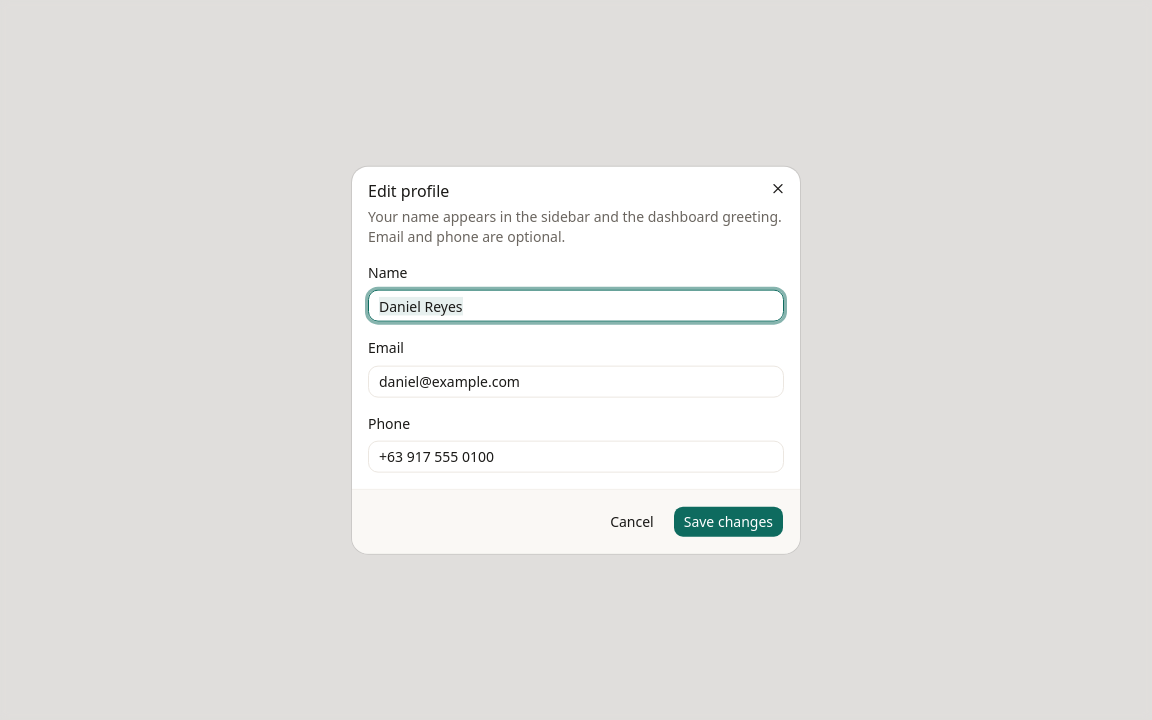
it: OwnerFormDialog › refuses a blank name without calling the write path
Clear the field labelled "Name": (576, 306) [368,290,784,322]
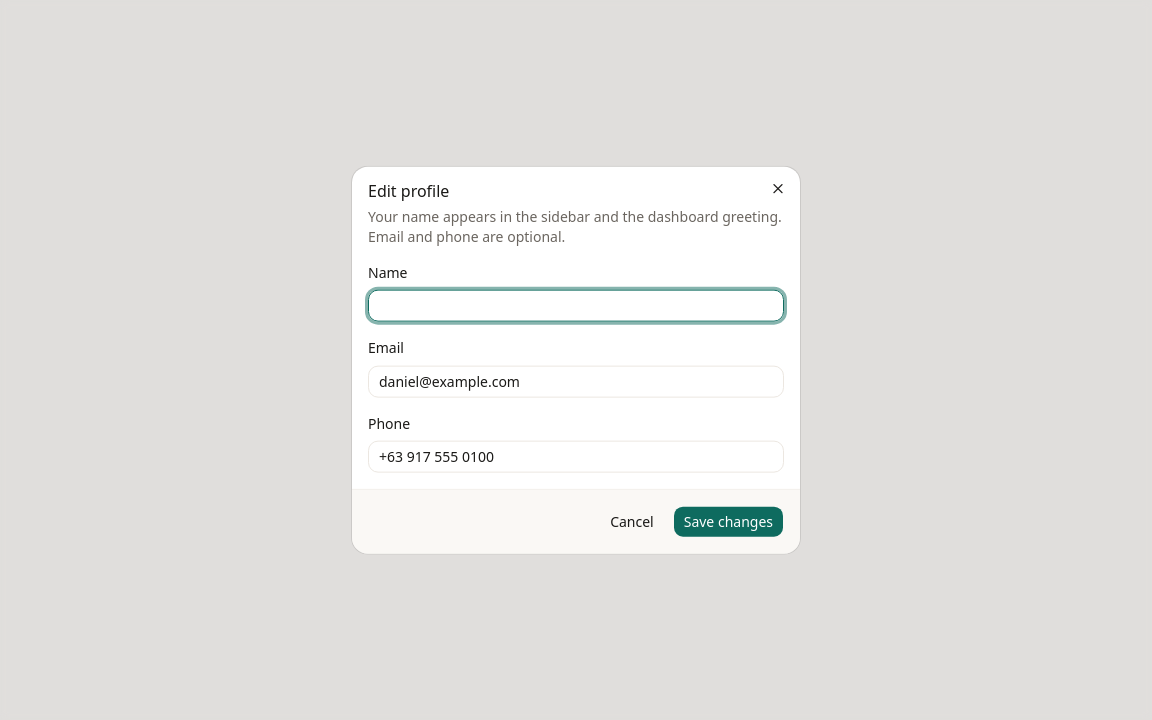
Click the button with test id "profile-owner-save": (728, 521) [673,505,784,537]
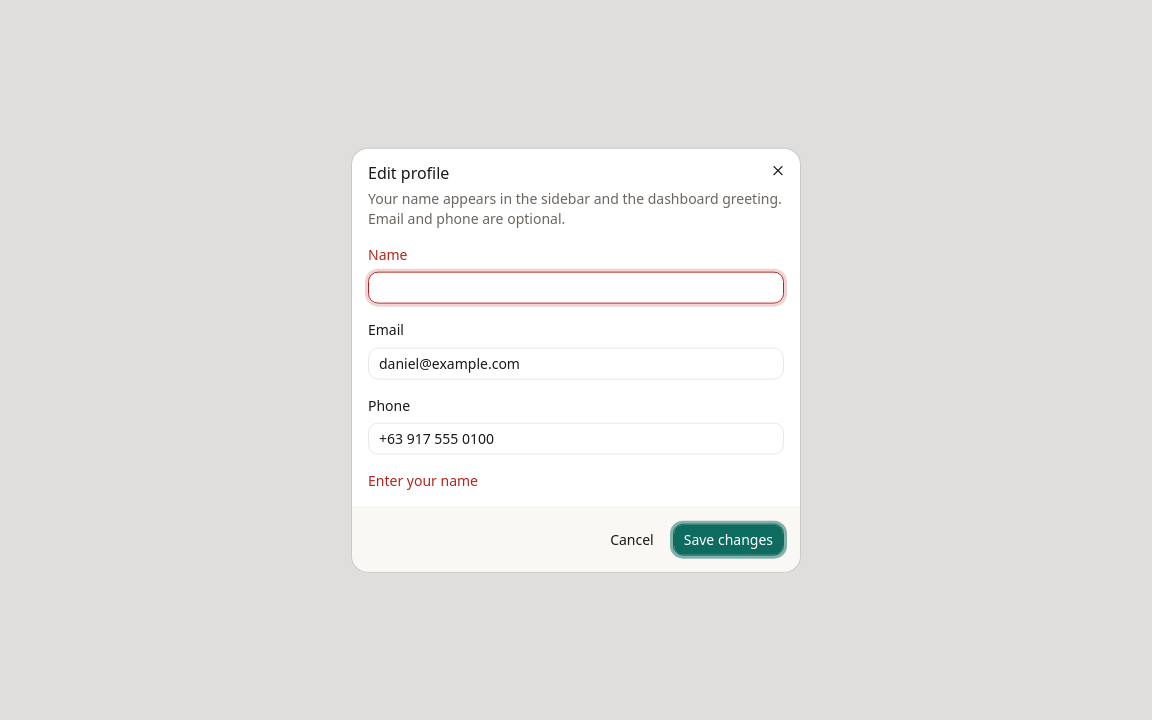
expect the message reads "Enter your name": met, box [368,470,478,489]
